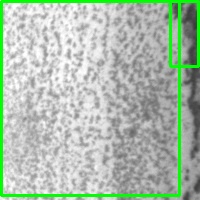patches: (170, 1, 198, 66)
pitted_surface: (1, 1, 179, 195)
